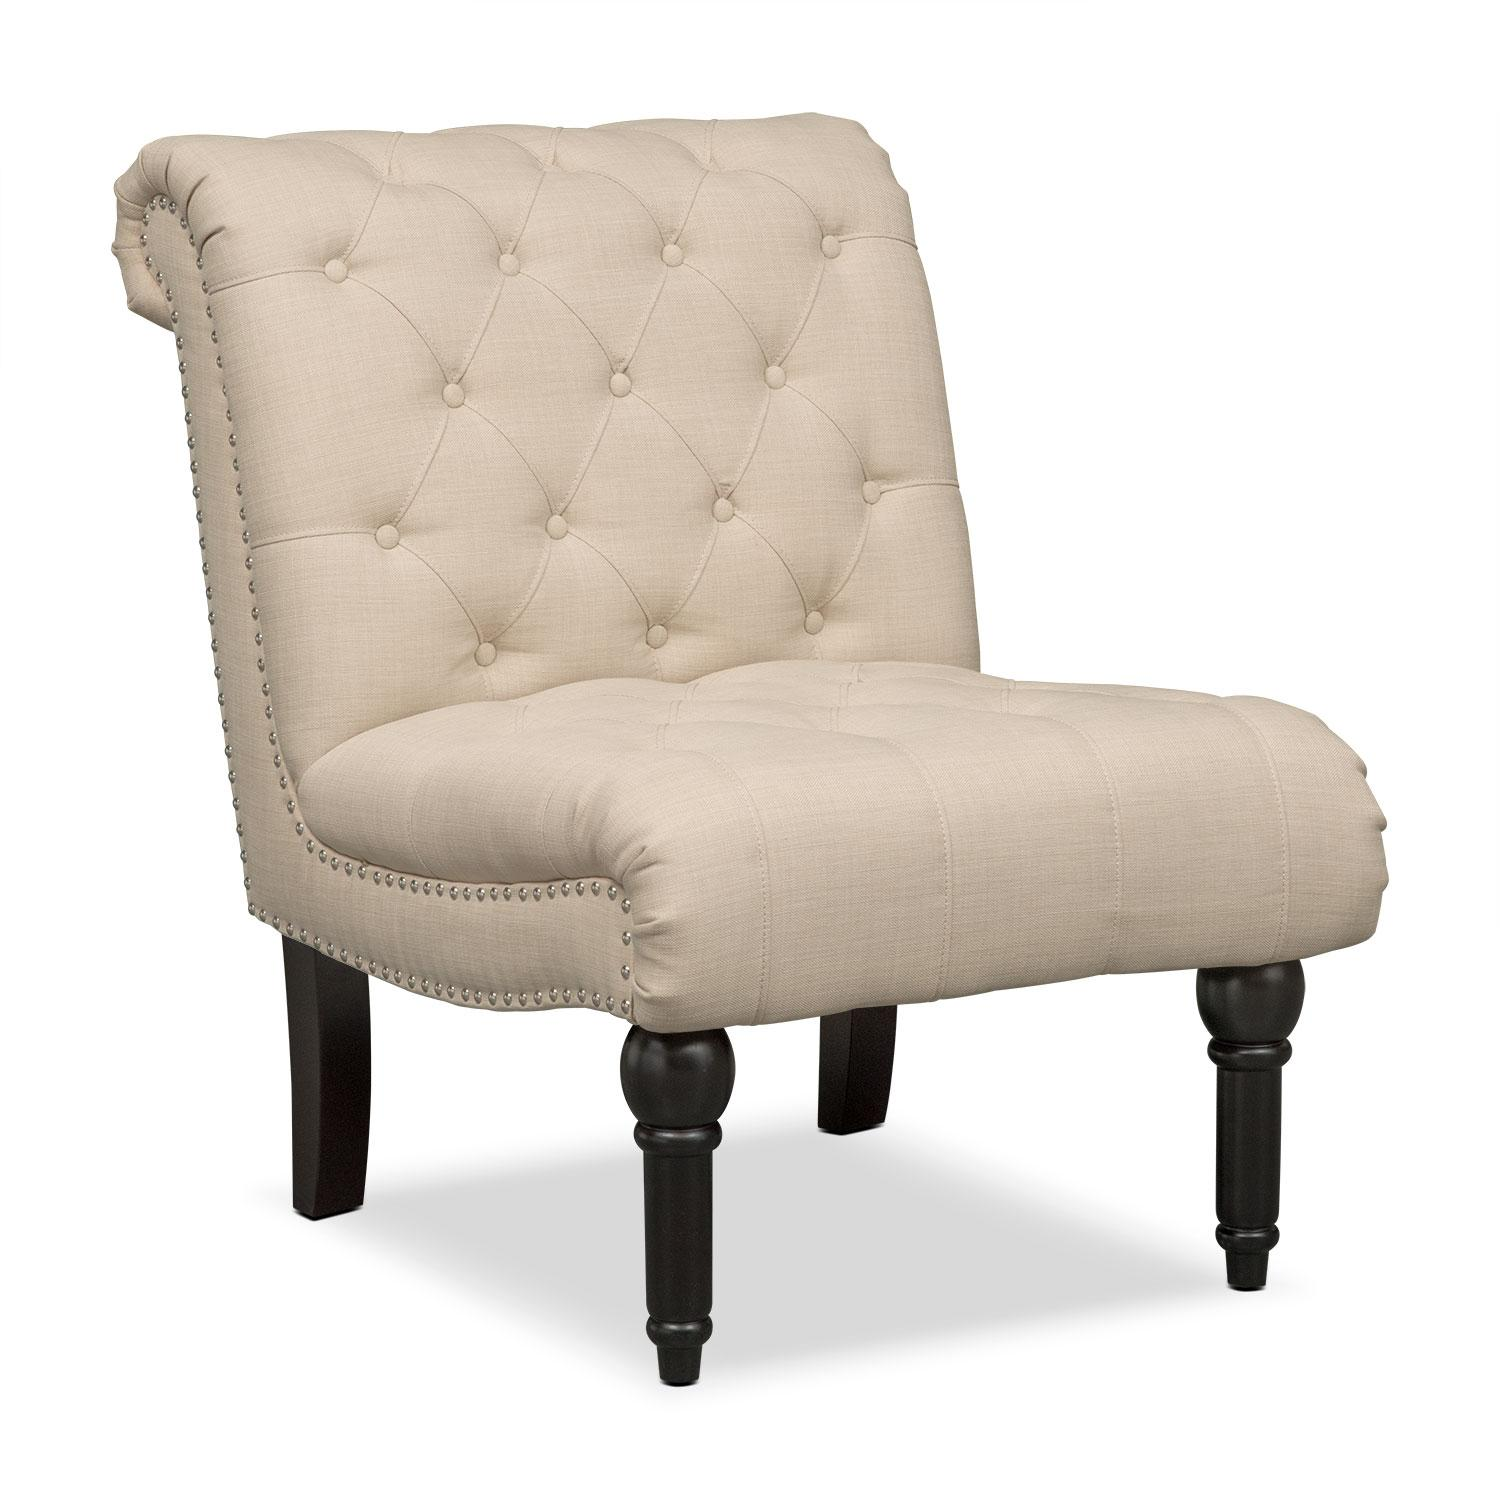chair: (98, 113, 1413, 1411)
